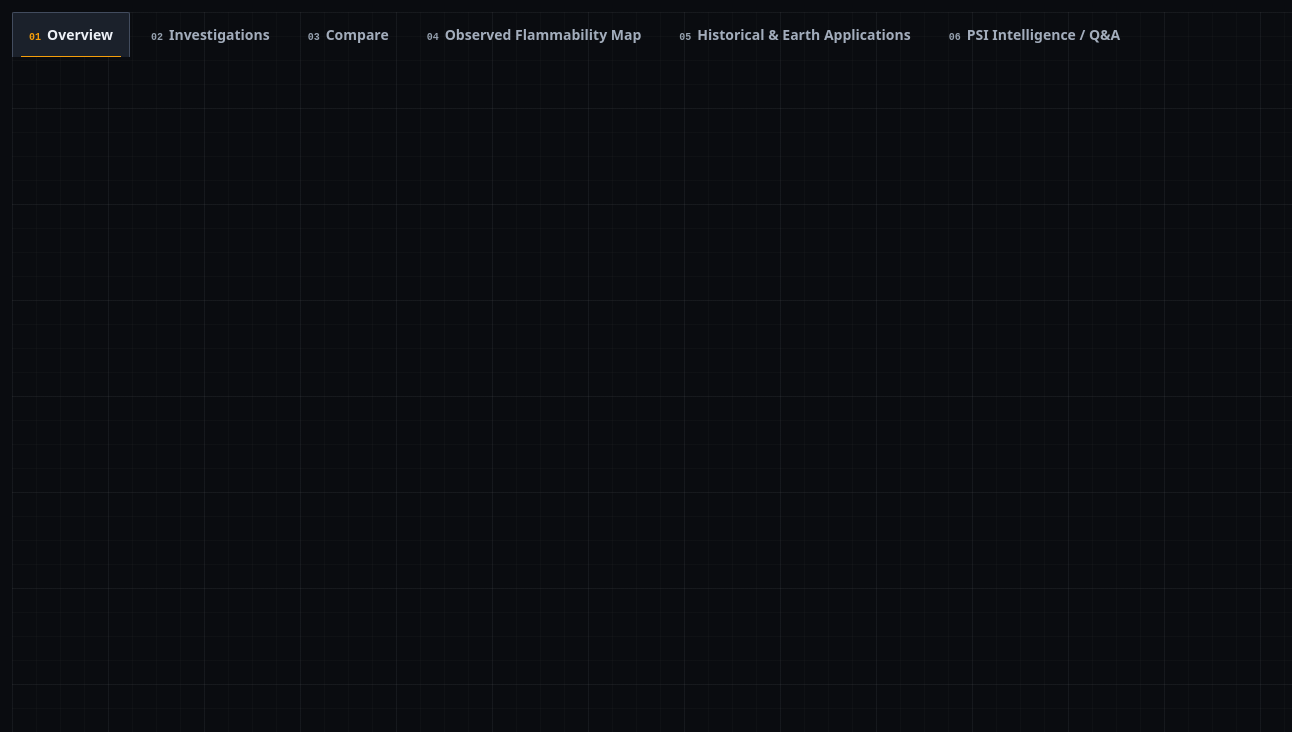
Scenario: TabNav › exposes WAI-ARIA tabs with a roving tabindex
This screenshot has width=1292, height=732.
Click the tab "02Investigations": (210, 35) x1=134 y1=12 x2=287 y2=57
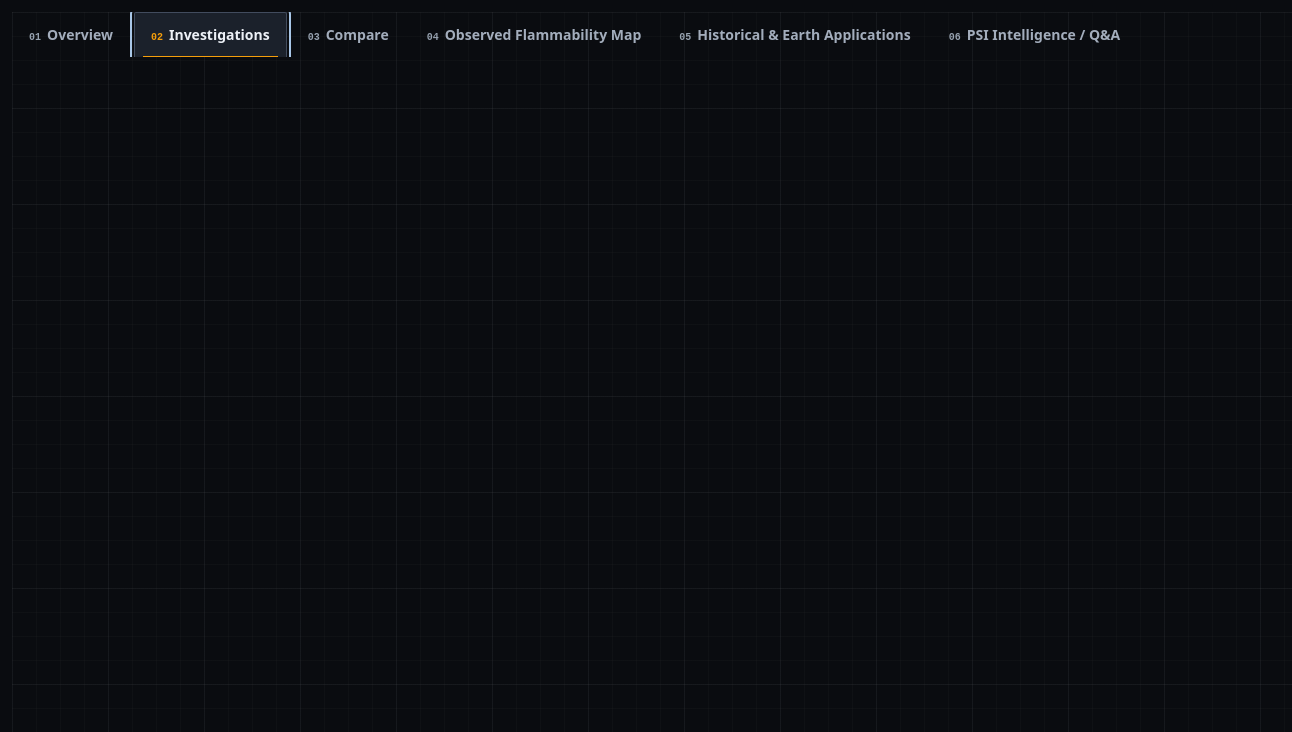
expect the tab "02Investigations" is selected: met, box x1=134 y1=12 x2=287 y2=57
expect the tab "01Overview" has attribute tabindex="-1": met, box x1=12 y1=12 x2=130 y2=57
